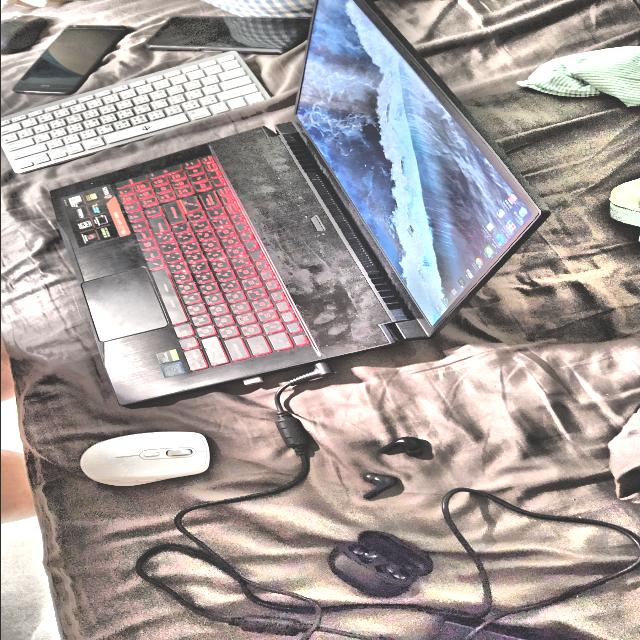laptop: (50, 0, 547, 404)
